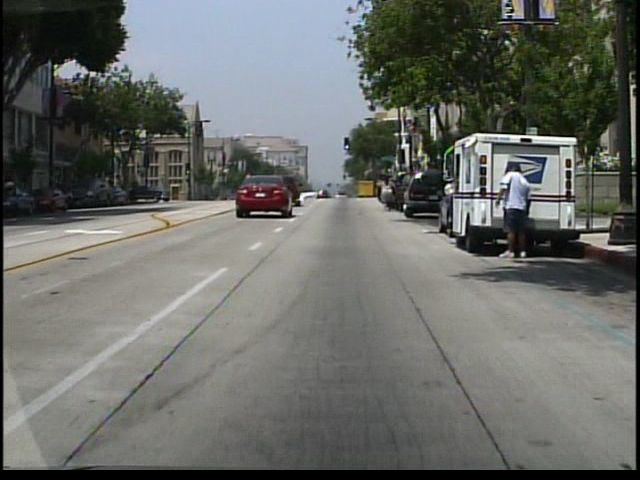person: (490, 162, 535, 261), (378, 173, 397, 215)
